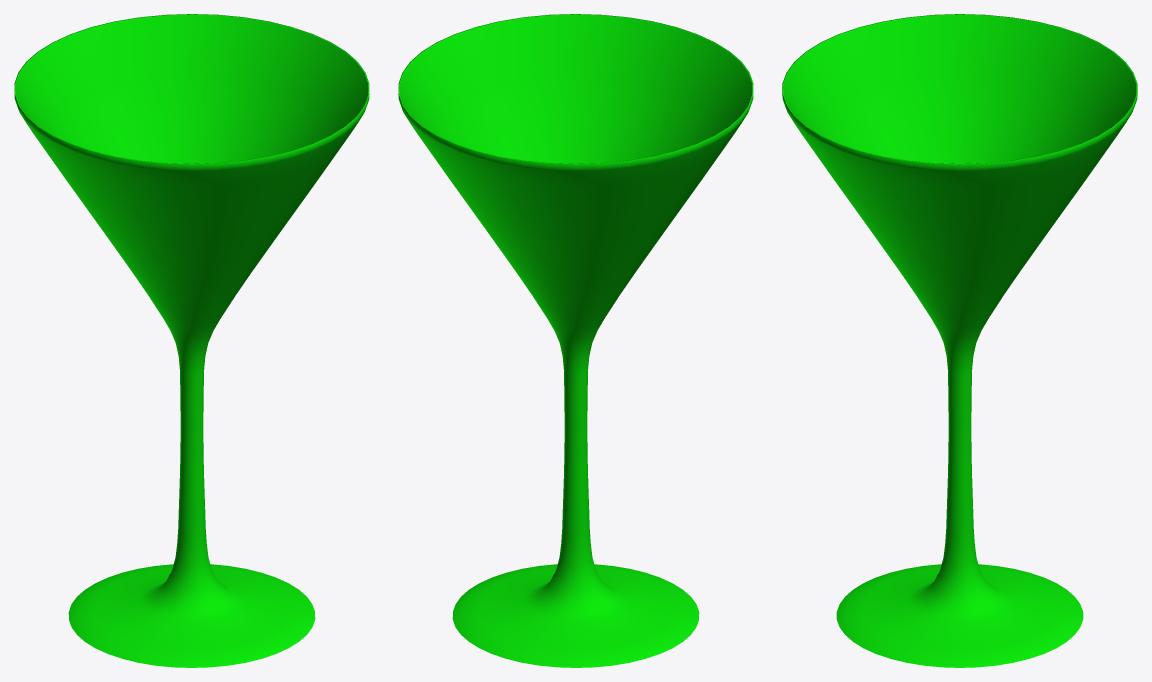
Rendered from Glass4_LOD_1.fbx.
The picture shows the model from 3 angles, left to right: view 1: azimuth 30°, elevation 25°; view 2: azimuth 150°, elevation 25°; view 3: azimuth 270°, elevation 25°; orthographic projection.
Parts seen in each view (by area): view 1: Glass4_LOD_1; view 2: Glass4_LOD_1; view 3: Glass4_LOD_1.
Part boxes in pixels (x1,y1,x2,y2): Glass4_LOD_1: [14, 14, 369, 667]; Glass4_LOD_1: [398, 14, 753, 667]; Glass4_LOD_1: [782, 14, 1137, 667].
Bounding box in the file's own units: 3.05 × 5 × 3.04.
